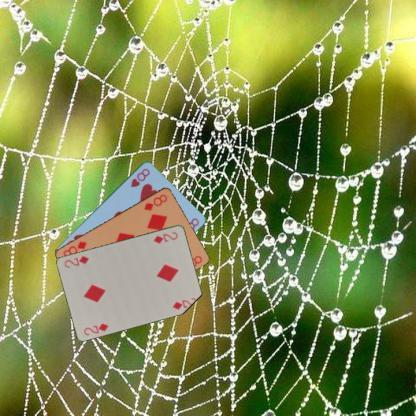2d: (150, 229, 180, 245), (82, 320, 110, 336)
8d: (142, 192, 168, 212)
8h: (128, 166, 150, 188)
